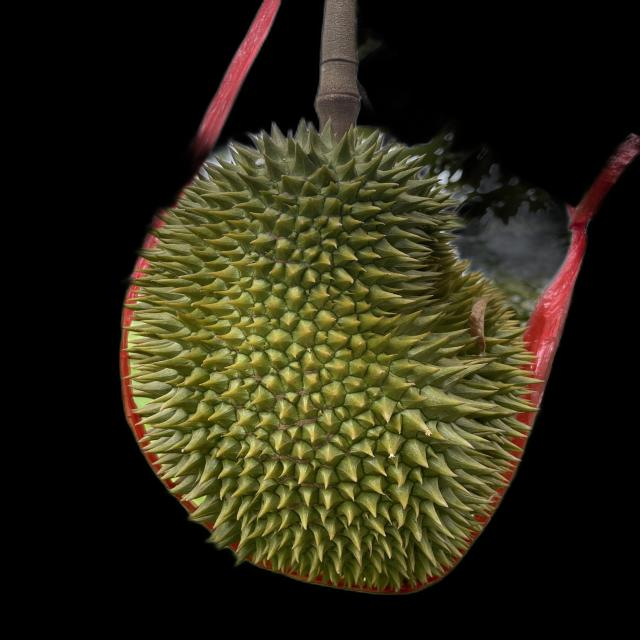immature: (117, 121, 542, 592)
